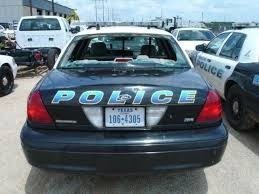Broken-glass: (62, 34, 186, 65)
